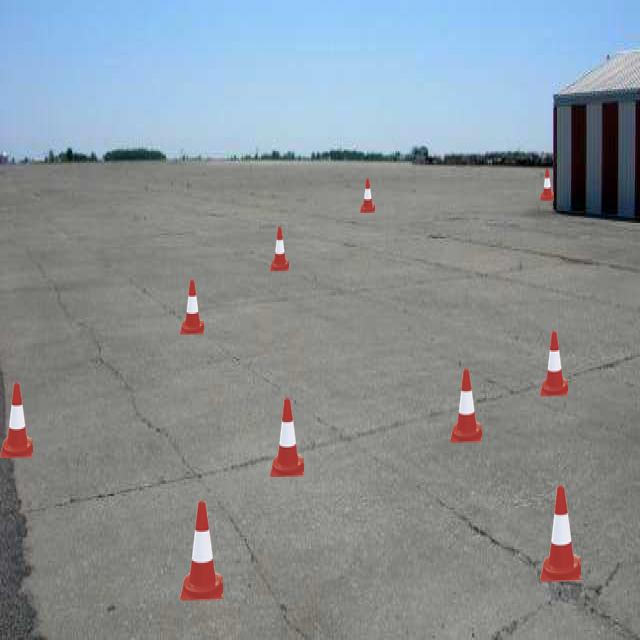orange_cone: (180, 501, 223, 601), (540, 486, 581, 582), (270, 398, 304, 477), (0, 383, 33, 458), (450, 369, 482, 443), (540, 332, 568, 396), (180, 280, 204, 334), (270, 227, 289, 271), (360, 178, 375, 213), (540, 168, 554, 201)
